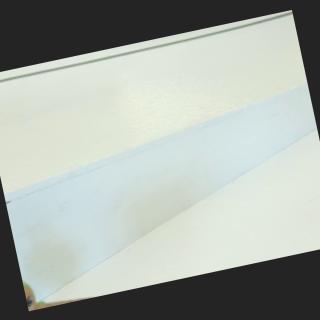teletubby: (22, 280, 42, 310)
